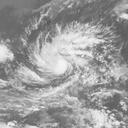cyclone: (15, 20, 116, 91)
